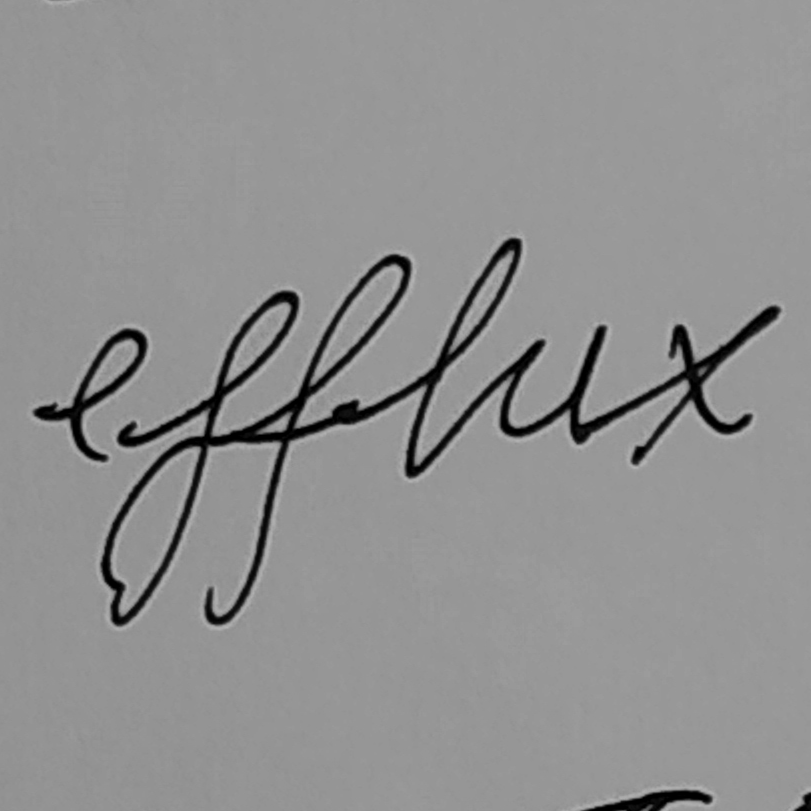e: (62, 323, 153, 468)
f: (198, 251, 416, 625), (96, 286, 302, 629)
l: (397, 234, 526, 481)
u: (496, 320, 611, 449)
x: (627, 300, 783, 469)
